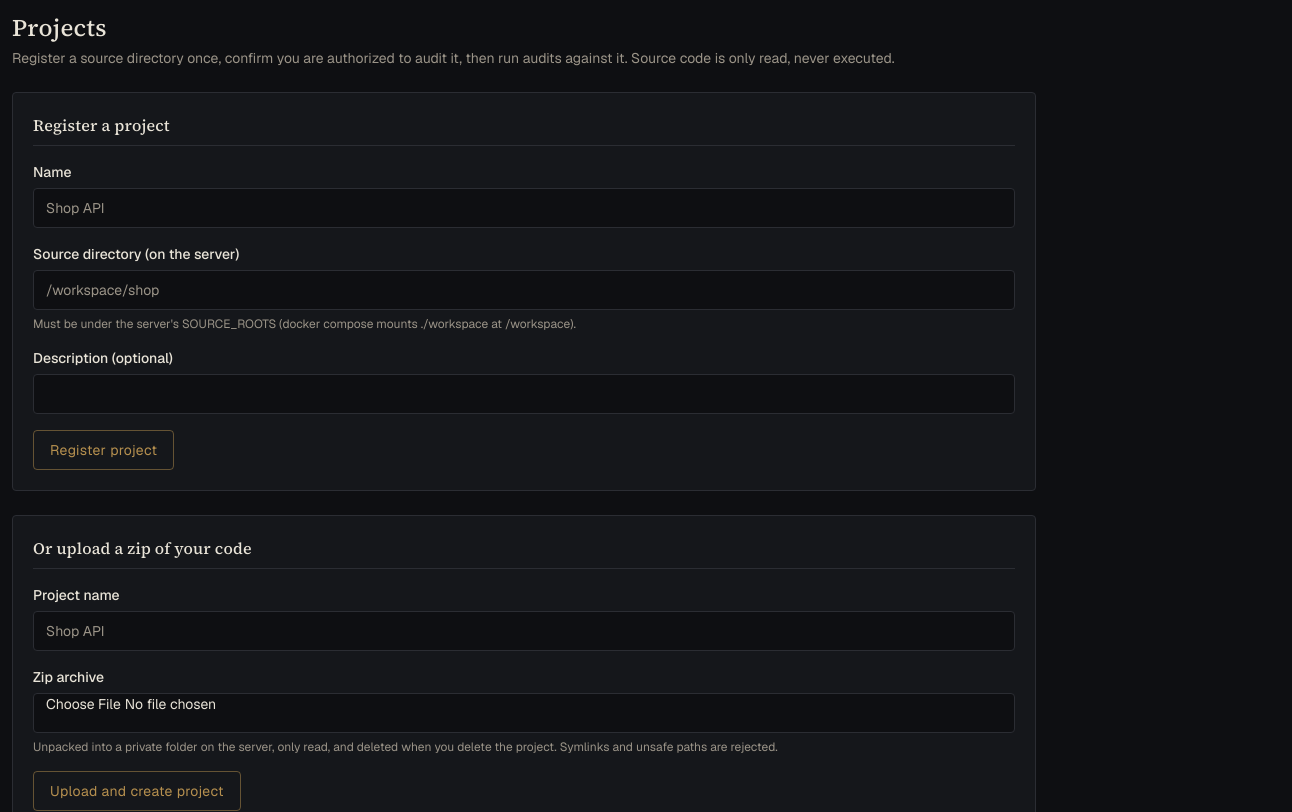
it: ProjectsPage › shows the server's rejection
The image size is (1292, 812).
Type "x" into the field labelled "Name". click: {"x": 524, "y": 208}
box: [33, 188, 1015, 228]
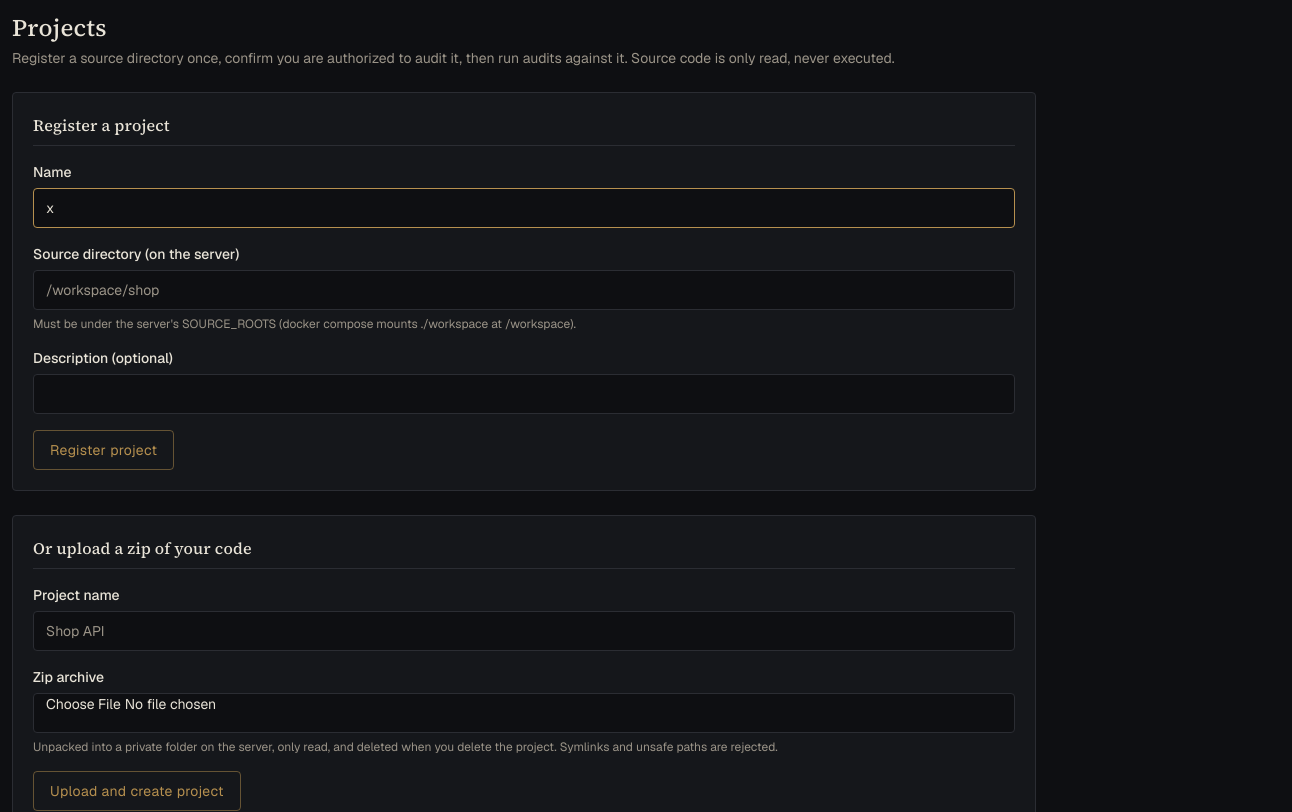
Type "/etc" into the field labelled "Source directory (on the server)". click: {"x": 524, "y": 290}
box: [33, 270, 1015, 310]
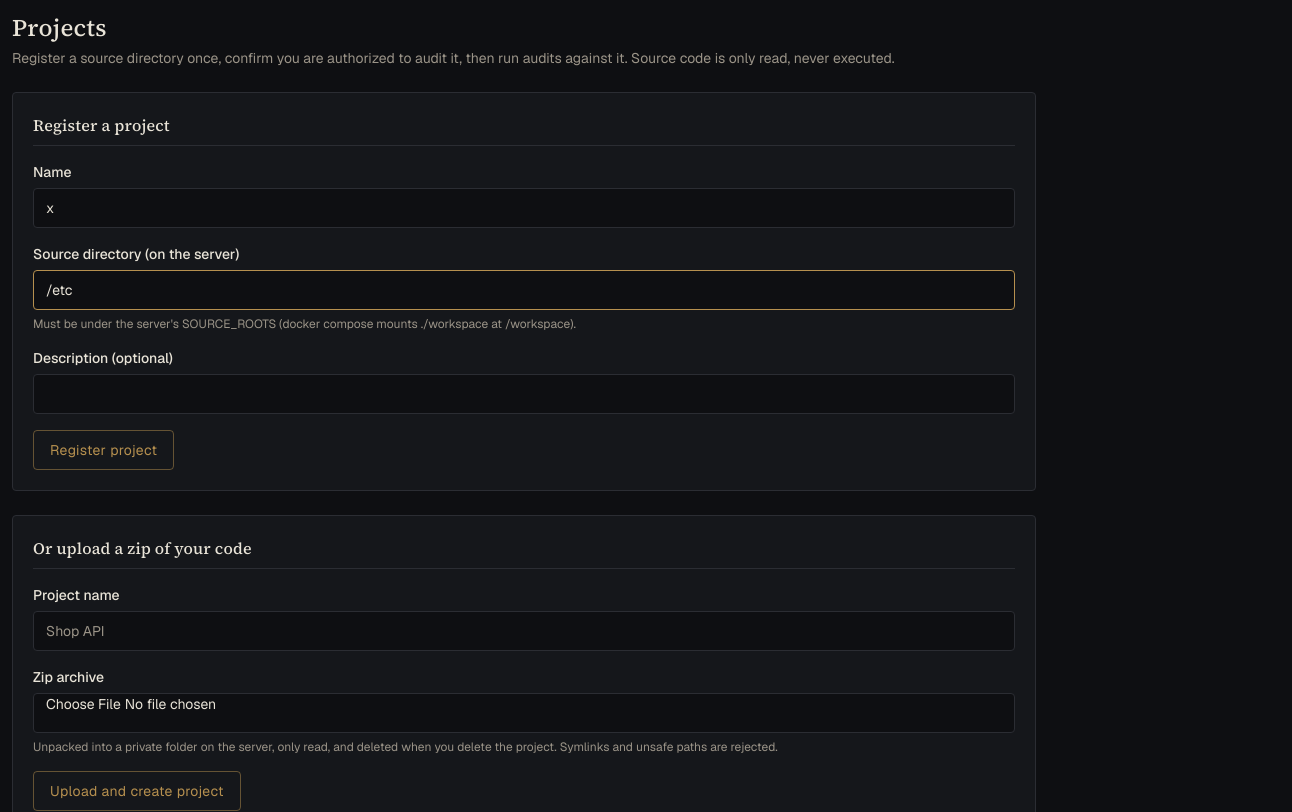
Click the button "Register project". click: {"x": 104, "y": 450}
box: [33, 430, 174, 470]
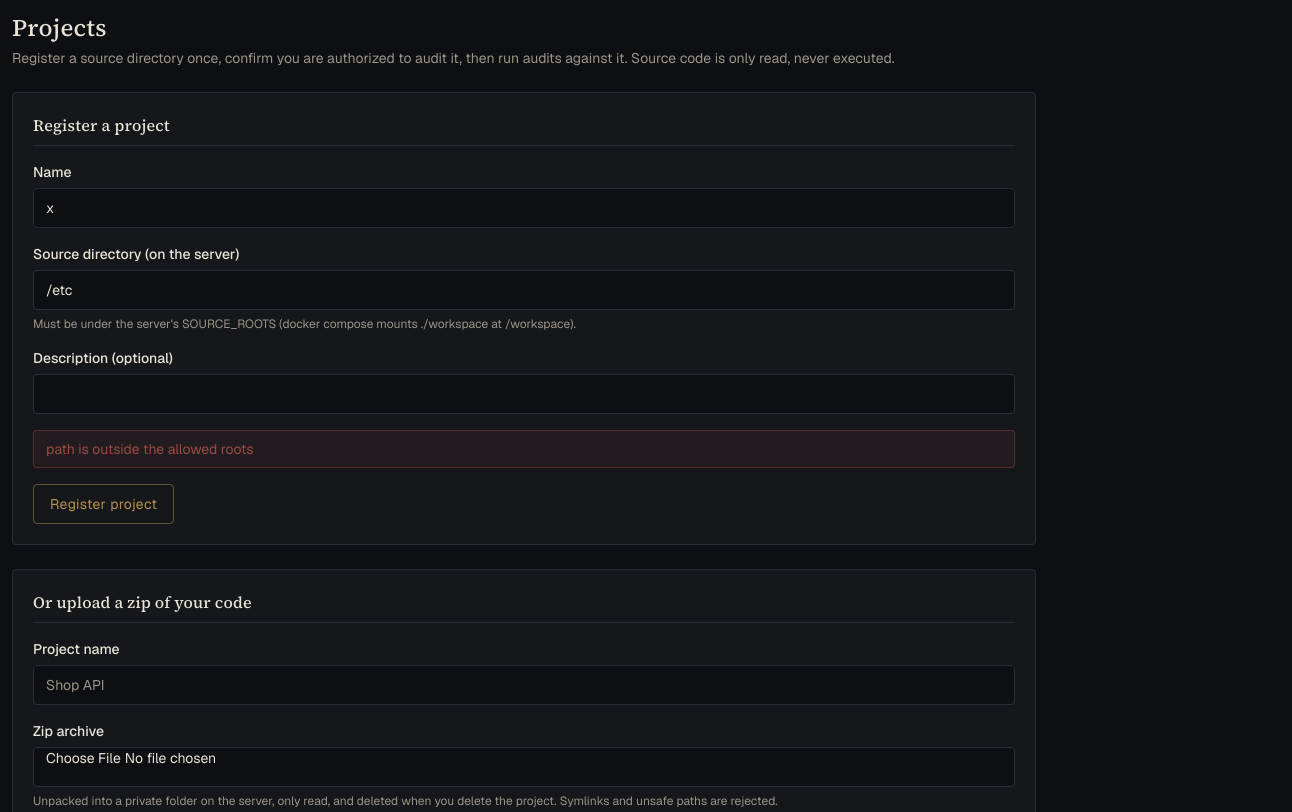
Result: the text "path is outside the allowed roots" is shown at [33, 430, 1015, 468]
